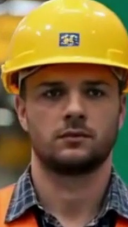Amir: (3, 5, 128, 212)
